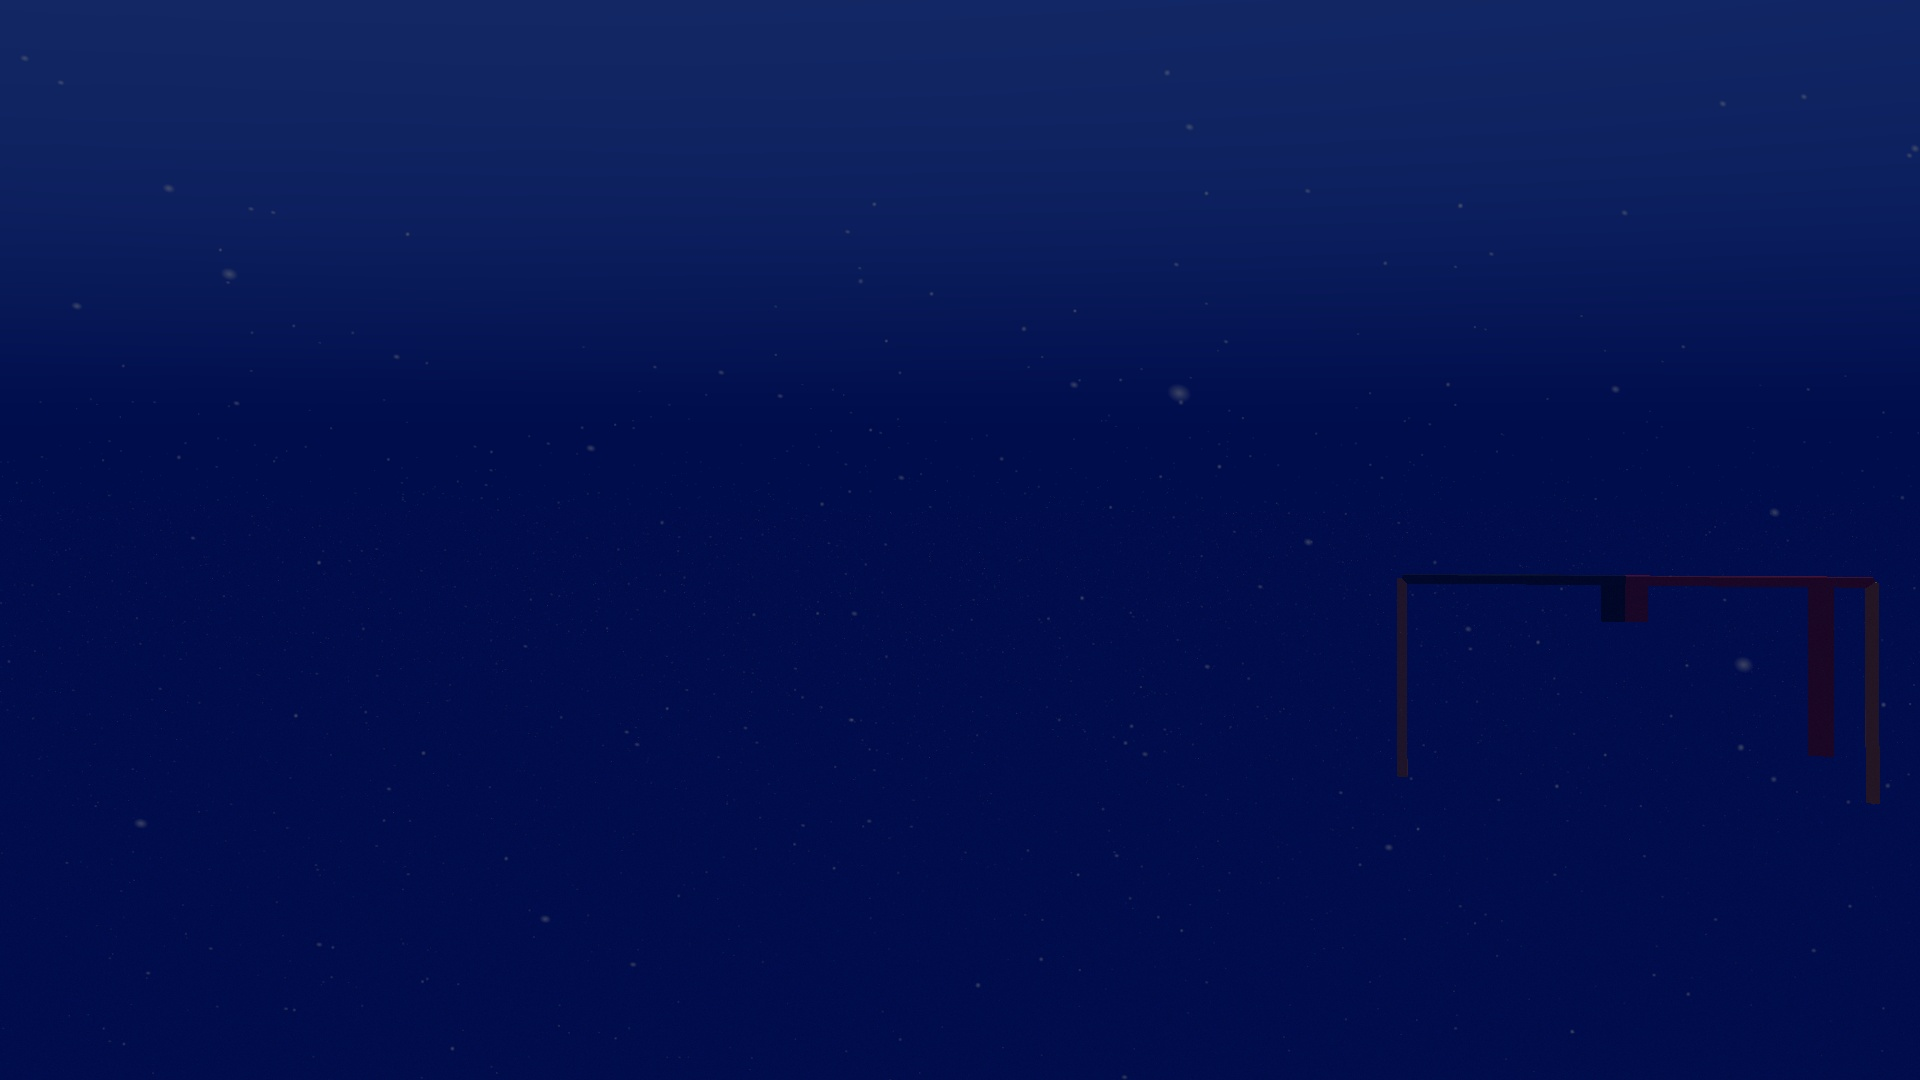Gate: (1385, 566, 1887, 814)
